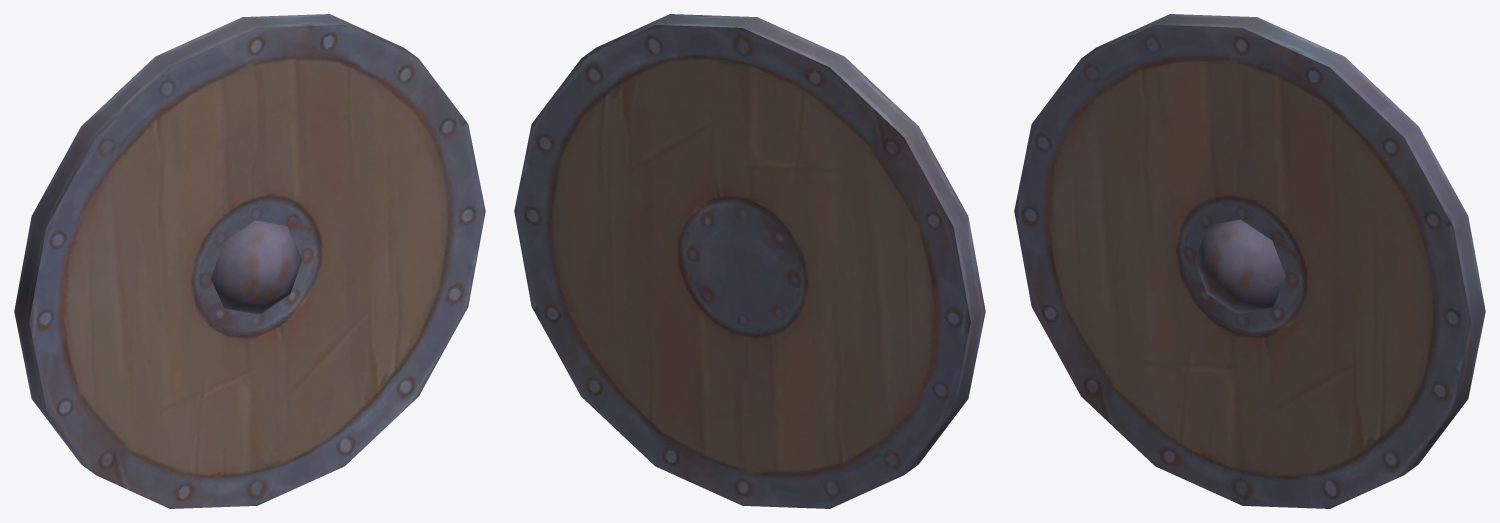
Rendered from Homeworld_Interior_Md_Walldecoration_Shield_01_Vo.fbx.
3 renders of one model, left to right at view 1: azimuth 30°, elevation 25°; view 2: azimuth 150°, elevation 25°; view 3: azimuth 330°, elevation 25°, orthographic.
Parts seen in each view (by area): view 1: Area_ManorProps_Shield01_Vo; view 2: Area_ManorProps_Shield01_Vo; view 3: Area_ManorProps_Shield01_Vo.
Part boxes in pixels (bbox=[...]): Area_ManorProps_Shield01_Vo: bbox=[14, 14, 485, 508]; Area_ManorProps_Shield01_Vo: bbox=[514, 14, 985, 508]; Area_ManorProps_Shield01_Vo: bbox=[1014, 14, 1485, 508].
Size of the model in its own units: 0.5939 by 0.5939 by 0.0651.
